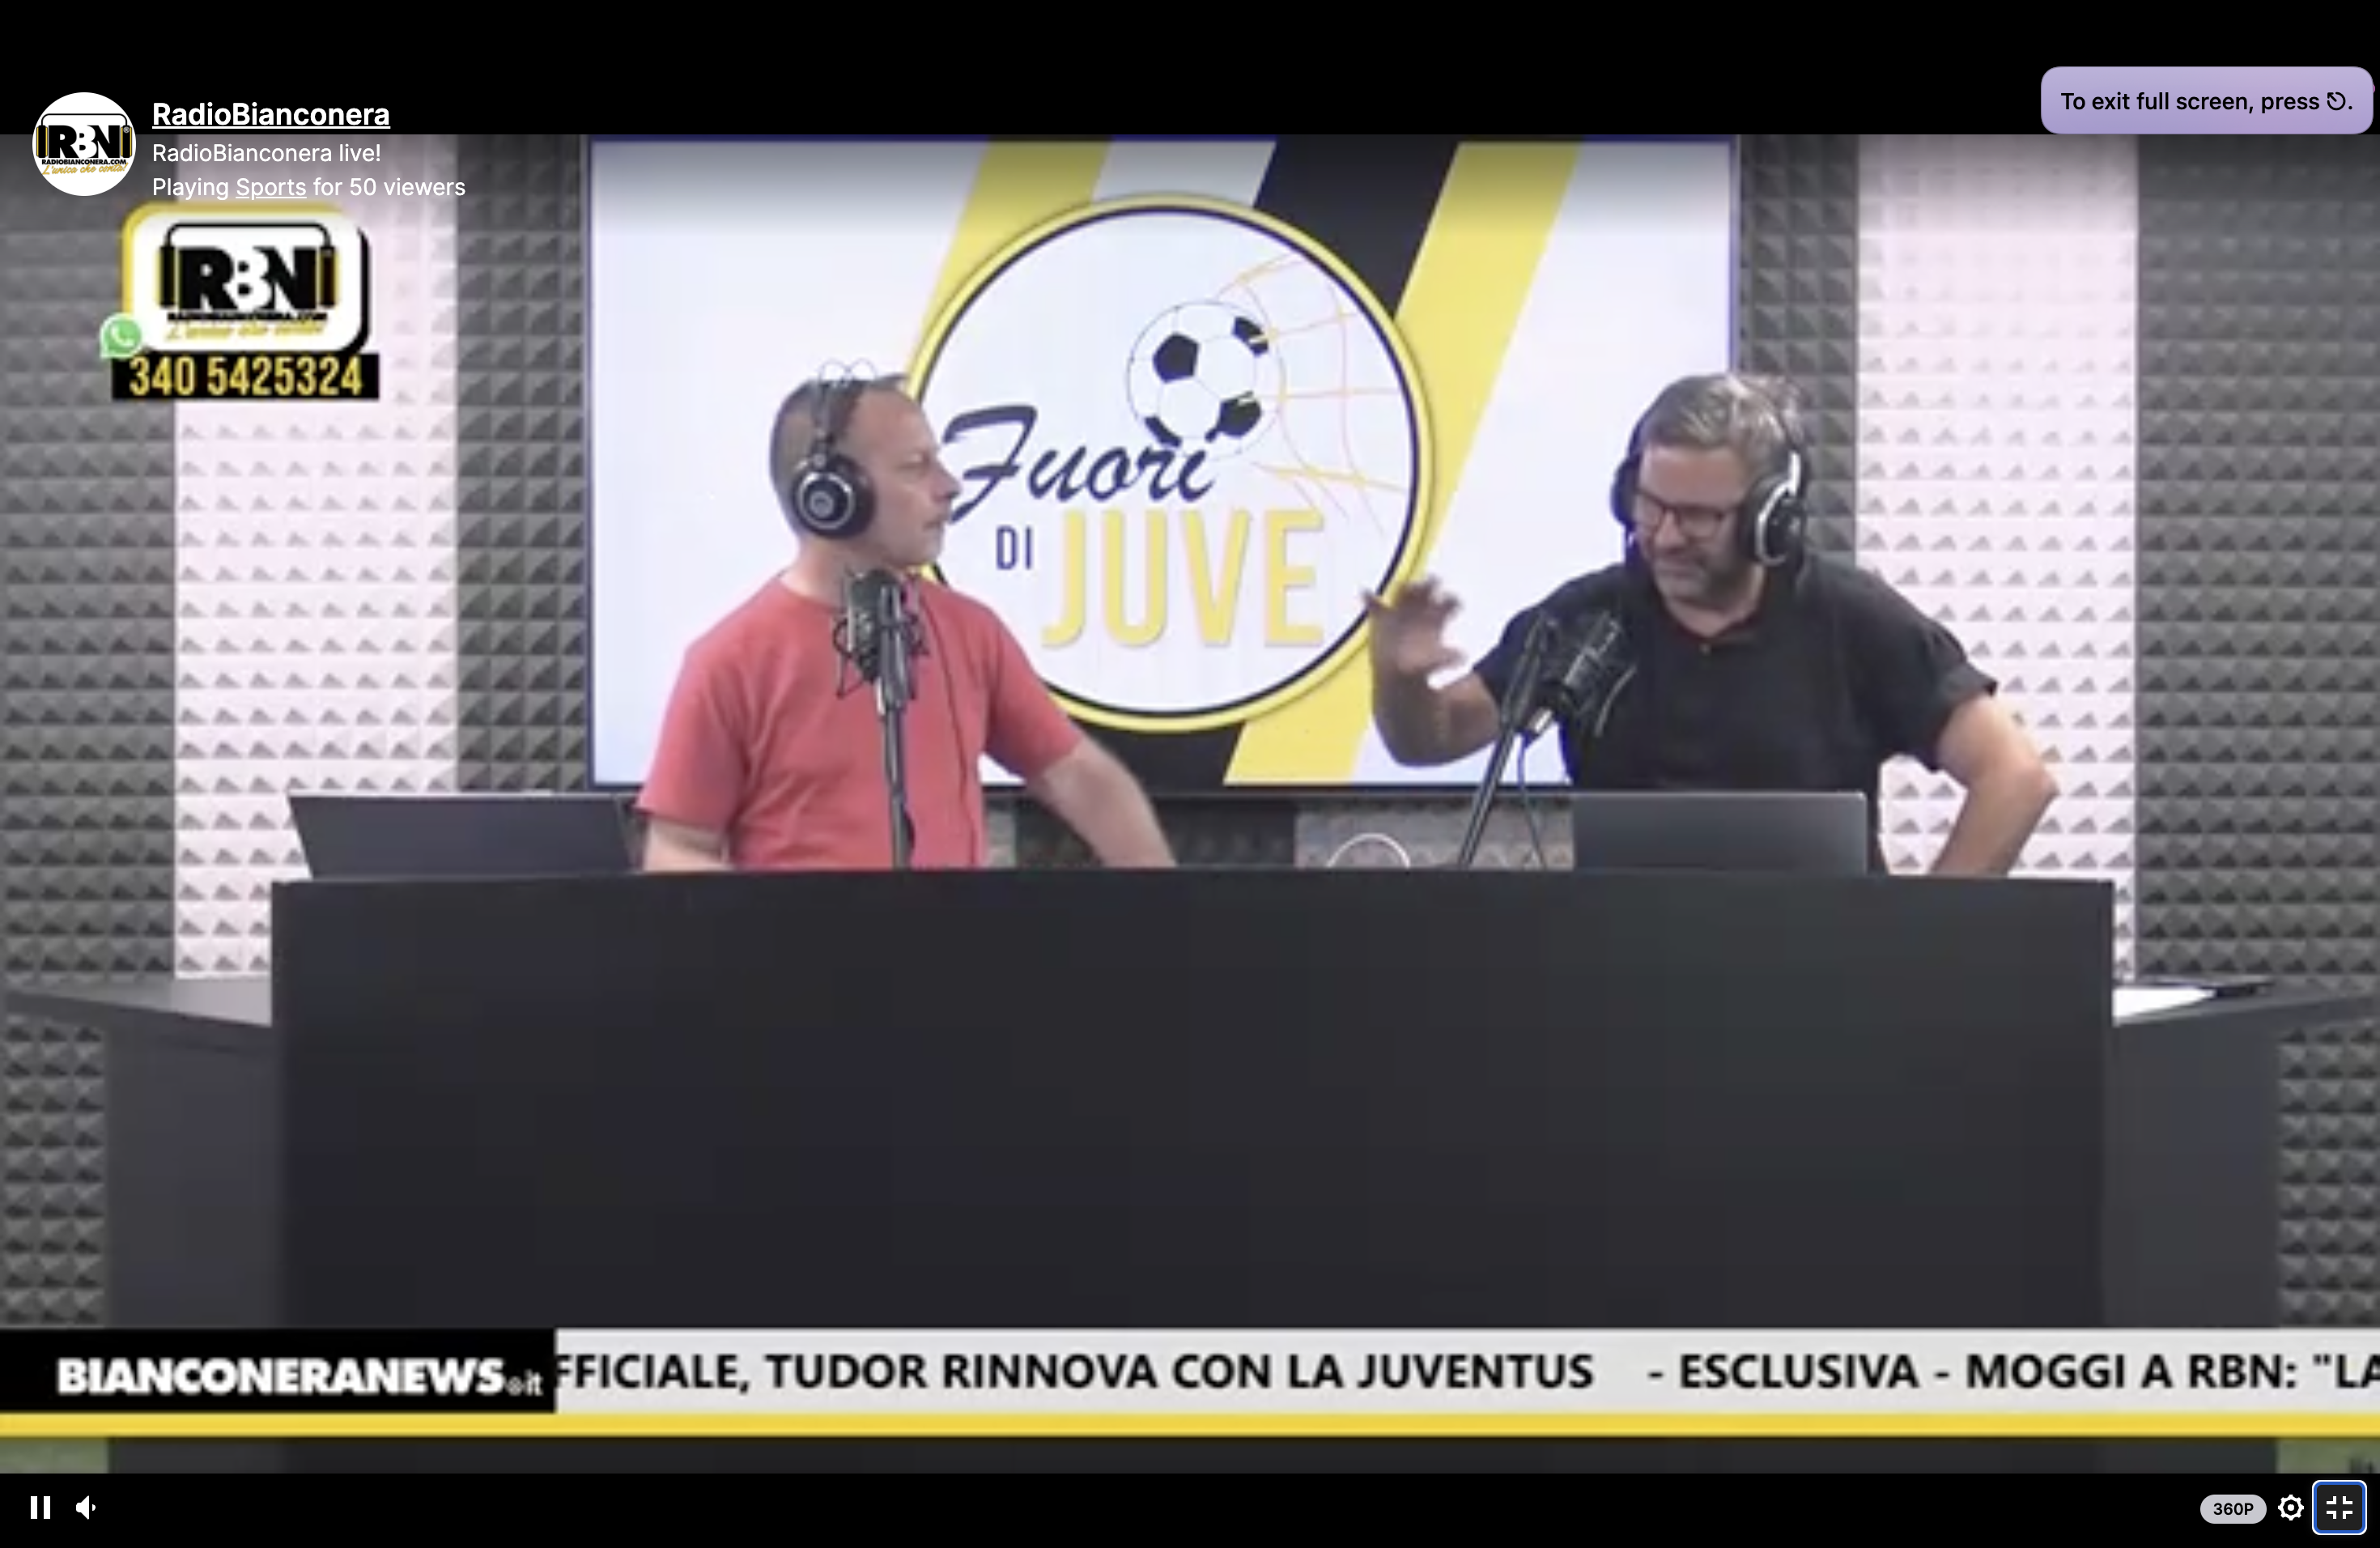person: (1359, 367, 2060, 878), (629, 364, 1179, 873)
